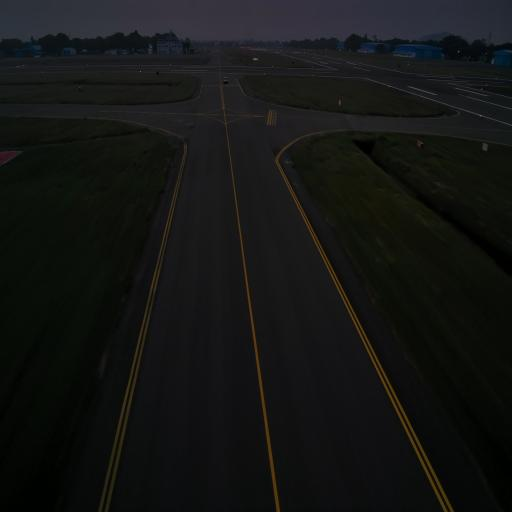on: (286, 157, 289, 162)
